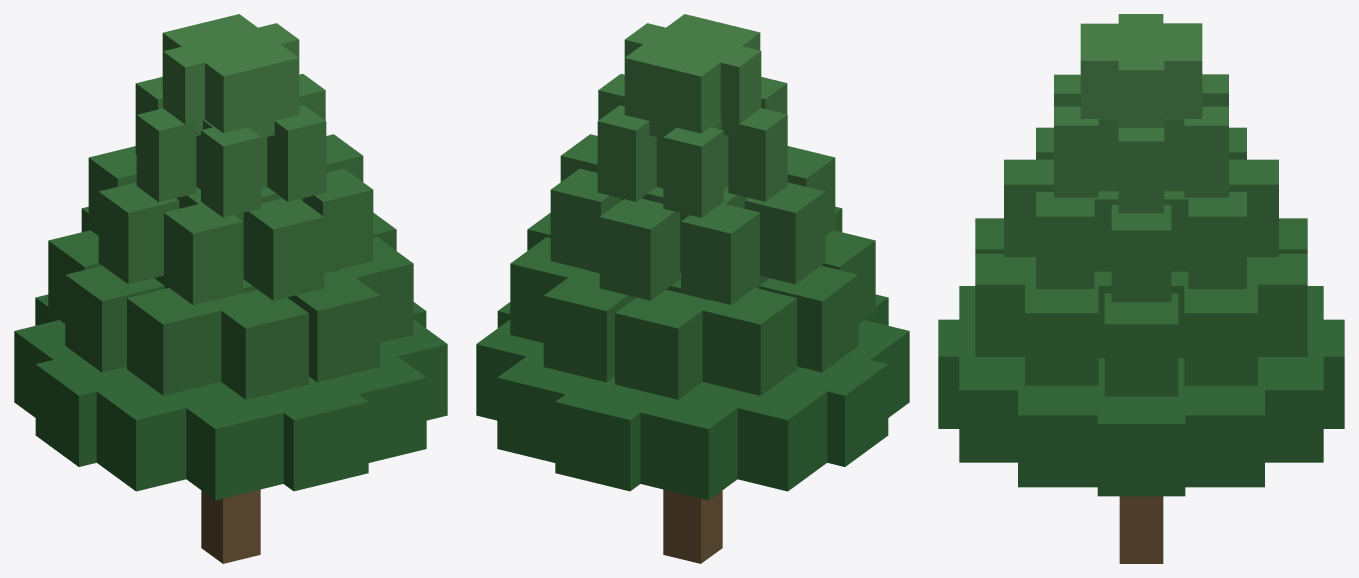
File: tree_spire_0.glb
The picture shows the model from 3 angles, left to right: view 1: azimuth 30°, elevation 25°; view 2: azimuth 150°, elevation 25°; view 3: azimuth 270°, elevation 25°; orthographic projection.
Visible parts, largest first — view 1: body; view 2: body; view 3: body.
Boxes of the visible parts, <box> form: body: <box>14,14,447,563</box>; body: <box>476,14,909,563</box>; body: <box>938,14,1344,563</box>.
Size of the model in its own units: 4.08 by 5.68 by 4.08.
